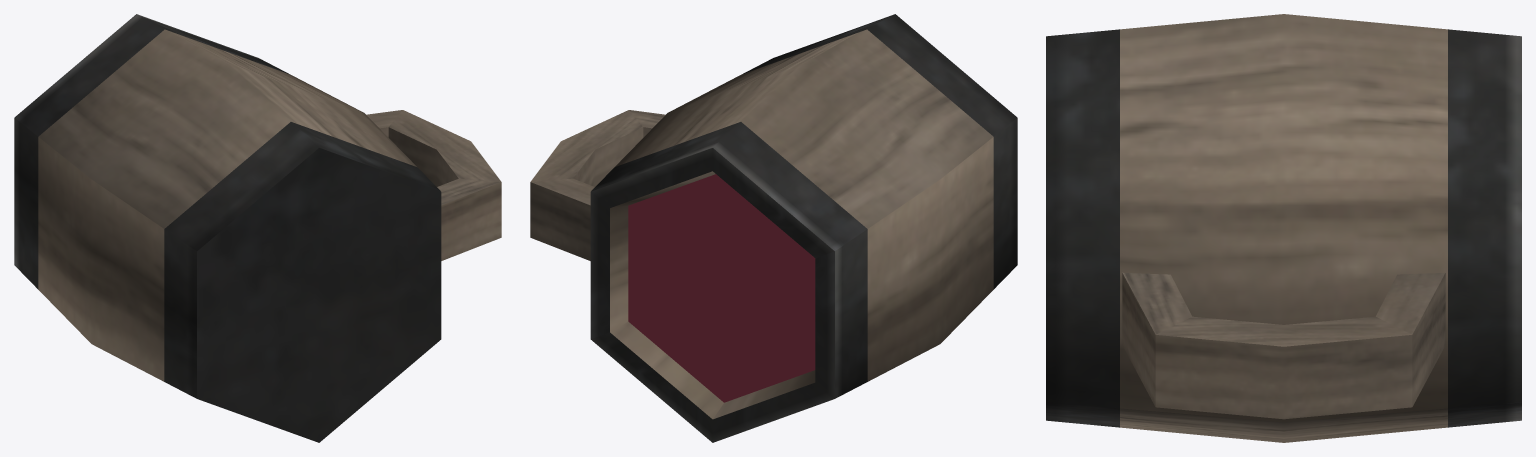
Rendered from Wood_Stein_C.fbx.
3 renders of one model, left to right at view 1: azimuth 30°, elevation 25°; view 2: azimuth 150°, elevation 25°; view 3: azimuth 270°, elevation 25°, orthographic. The views are drawn at different scales.
Visible parts, largest first — view 1: Wood_Stein_C; view 2: Wood_Stein_C; view 3: Wood_Stein_C.
Part boxes in pixels (left/top/right/bottom): Wood_Stein_C: left=14, top=14, right=501, bottom=442; Wood_Stein_C: left=530, top=14, right=1017, bottom=442; Wood_Stein_C: left=1046, top=14, right=1521, bottom=442.
Size of the model in its own units: 0.3094 by 0.2567 by 0.258.
